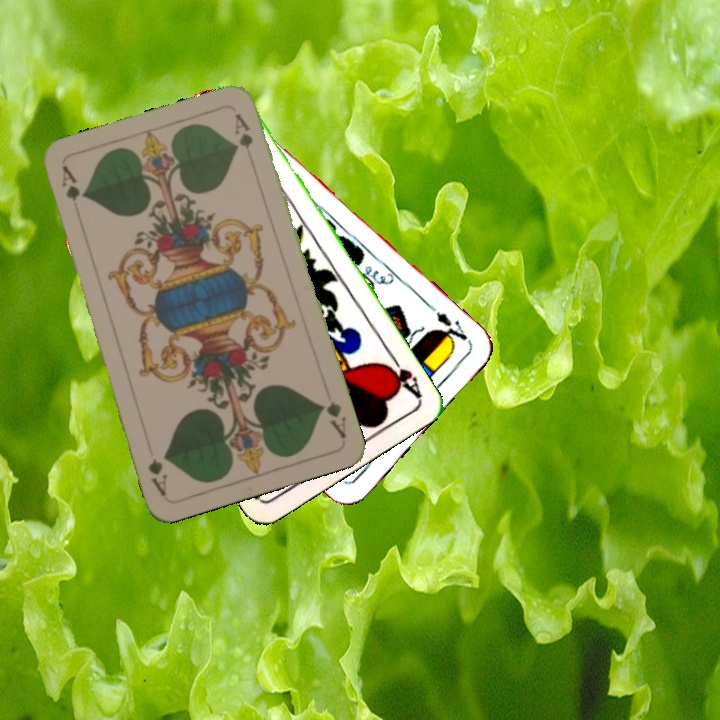EA: (425, 301, 474, 348)
GA: (316, 397, 349, 442), (57, 162, 83, 204)
HA: (379, 347, 425, 401)
